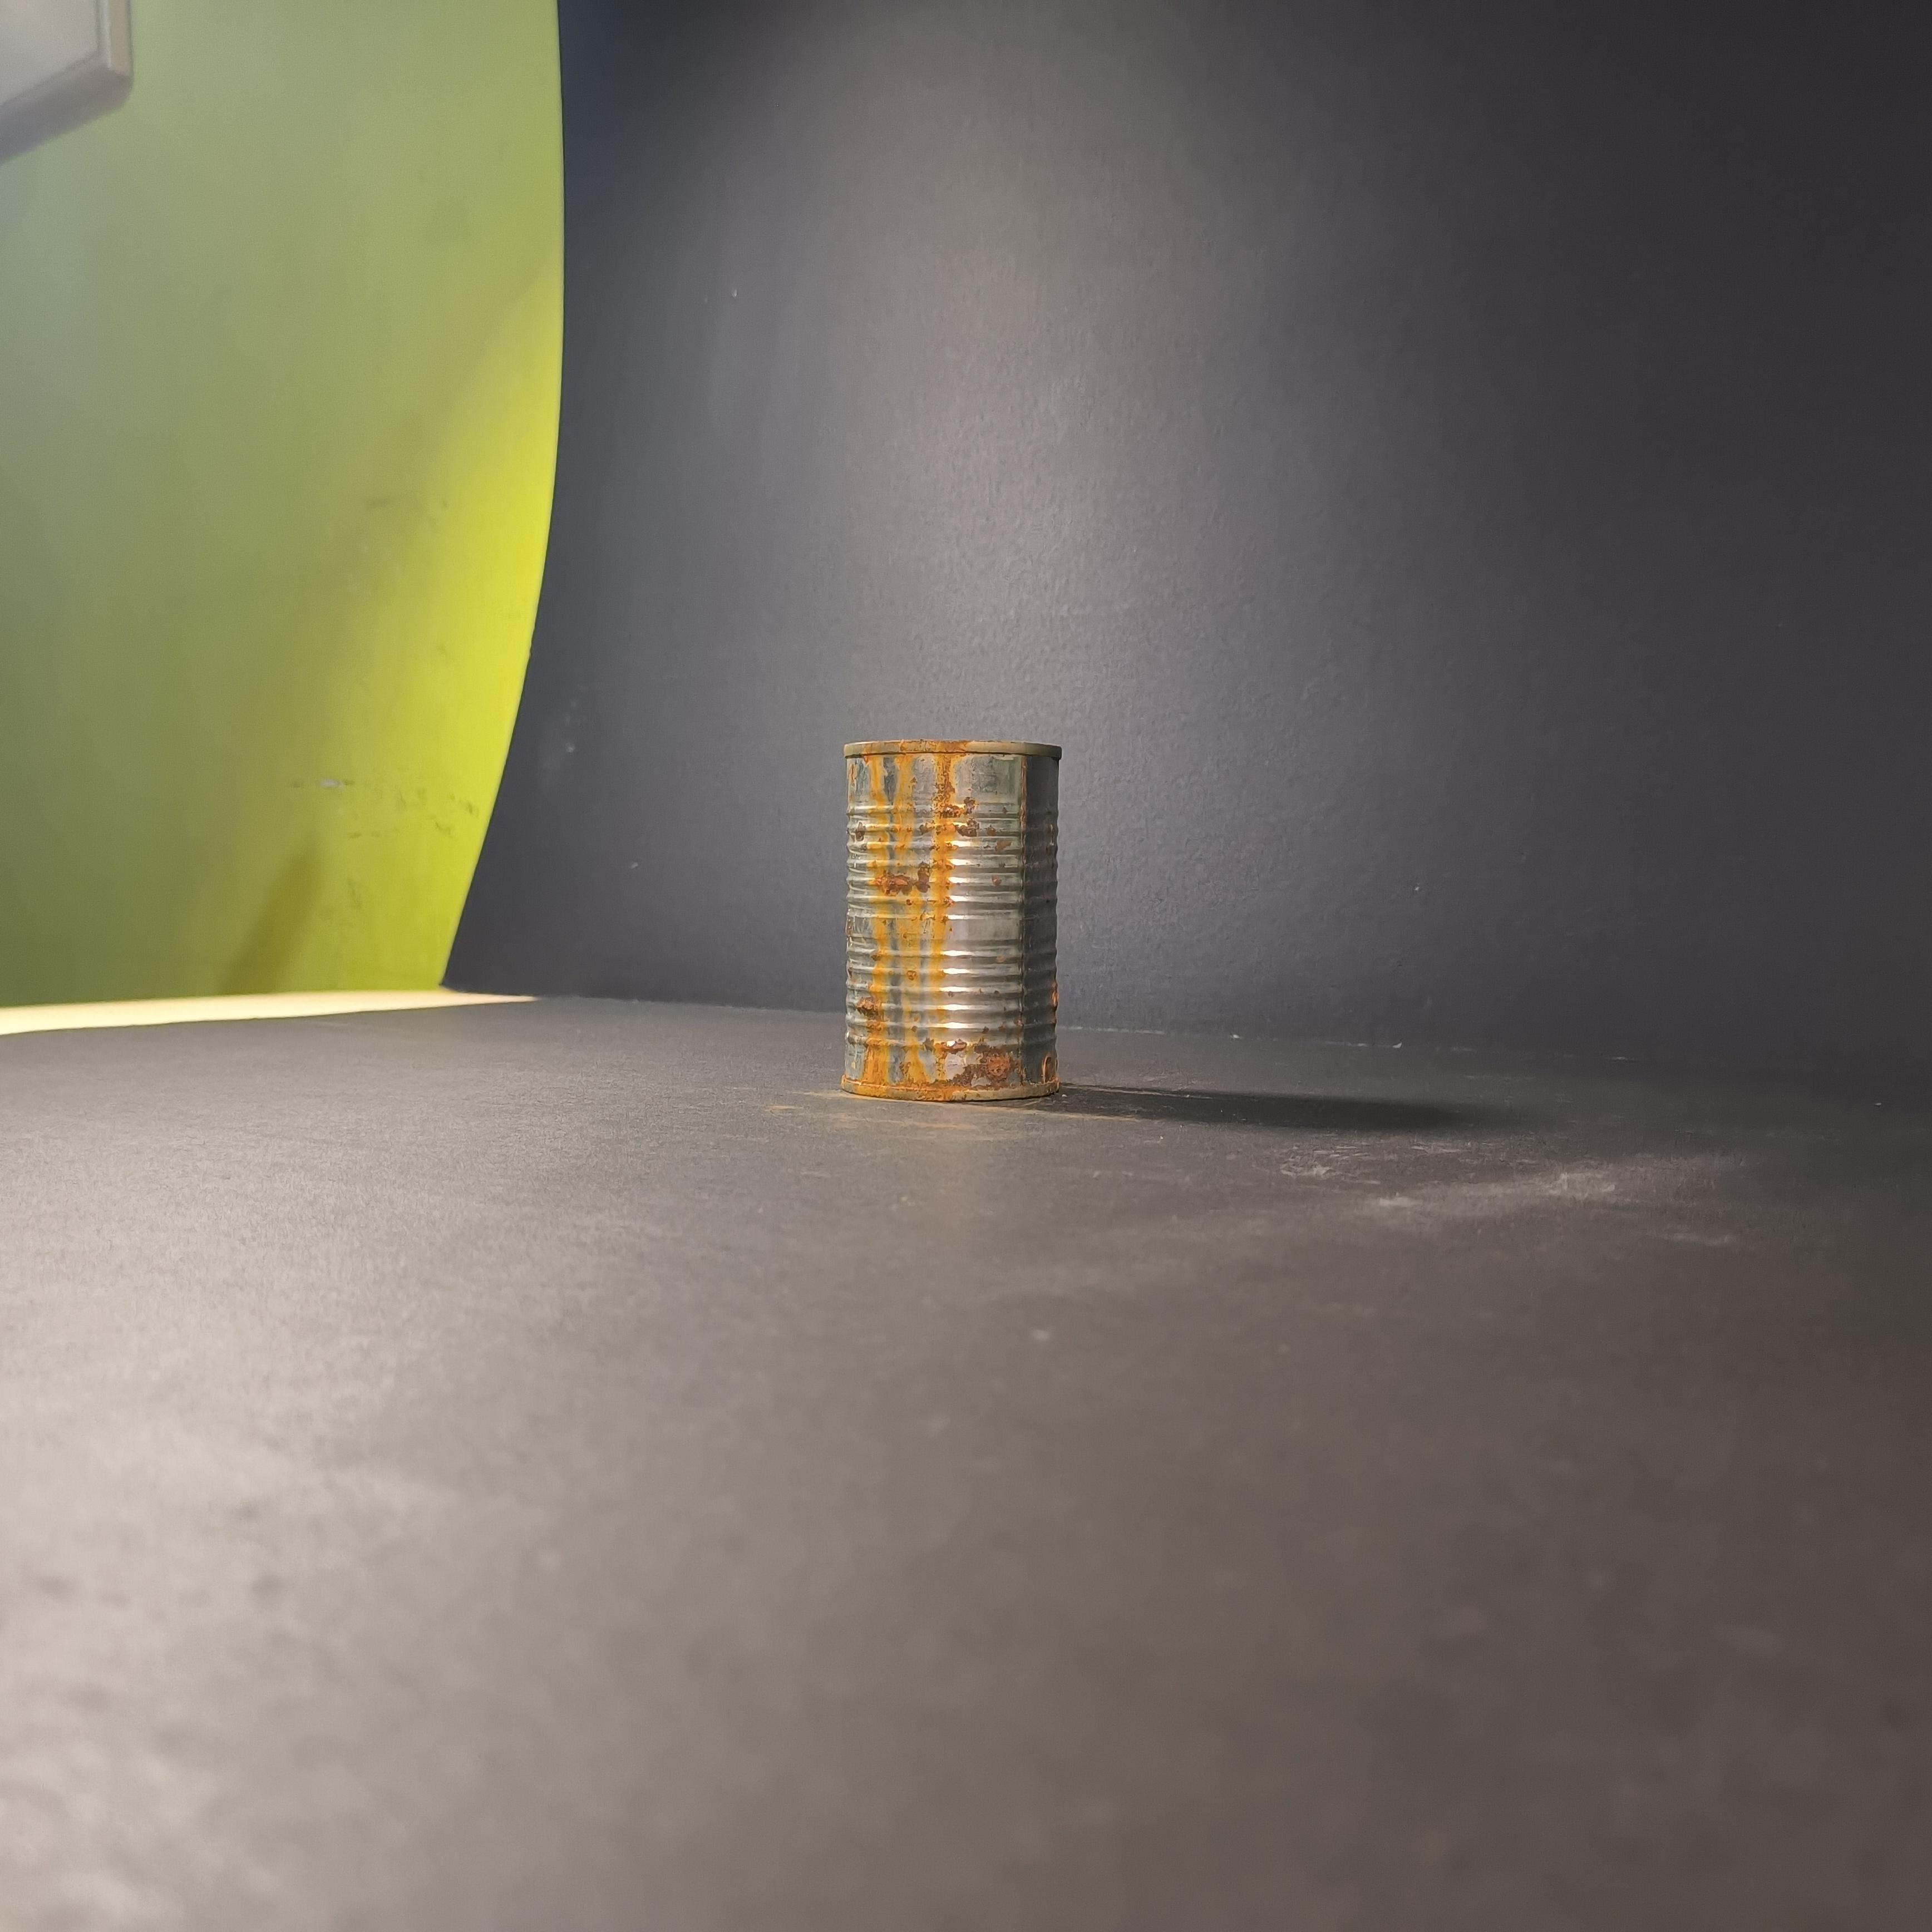Rusted: (816, 709, 1083, 1116)
